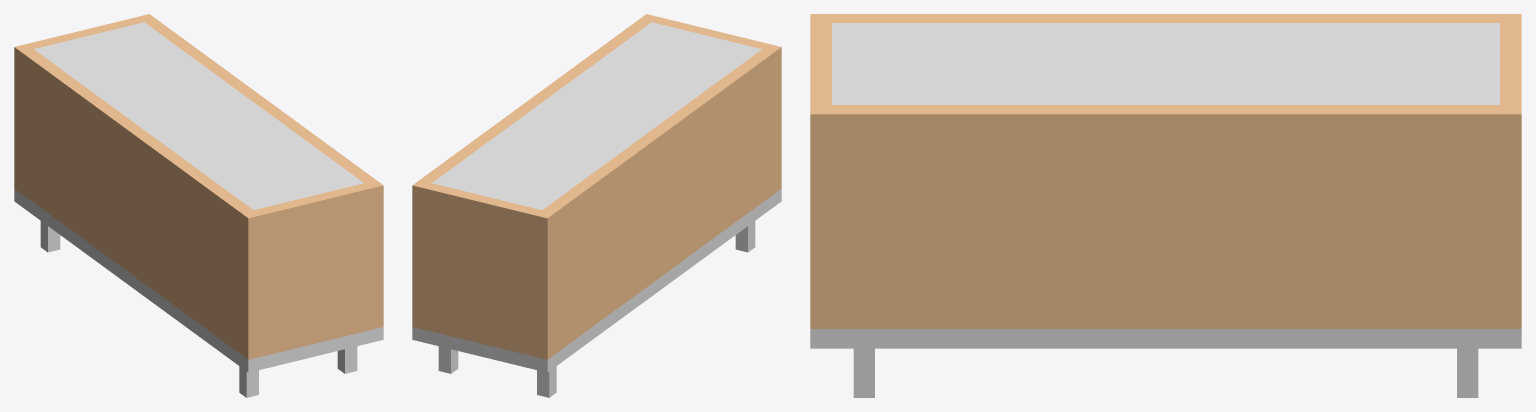
Rendered from dice_2og-33.obj.
3 renders of one model, left to right at view 1: azimuth 30°, elevation 25°; view 2: azimuth 150°, elevation 25°; view 3: azimuth 270°, elevation 25°, orthographic. The views are drawn at different scales.
Size of the model in its own units: 1.1 by 1.5 by 3.3.
1 material, 1 textured.
